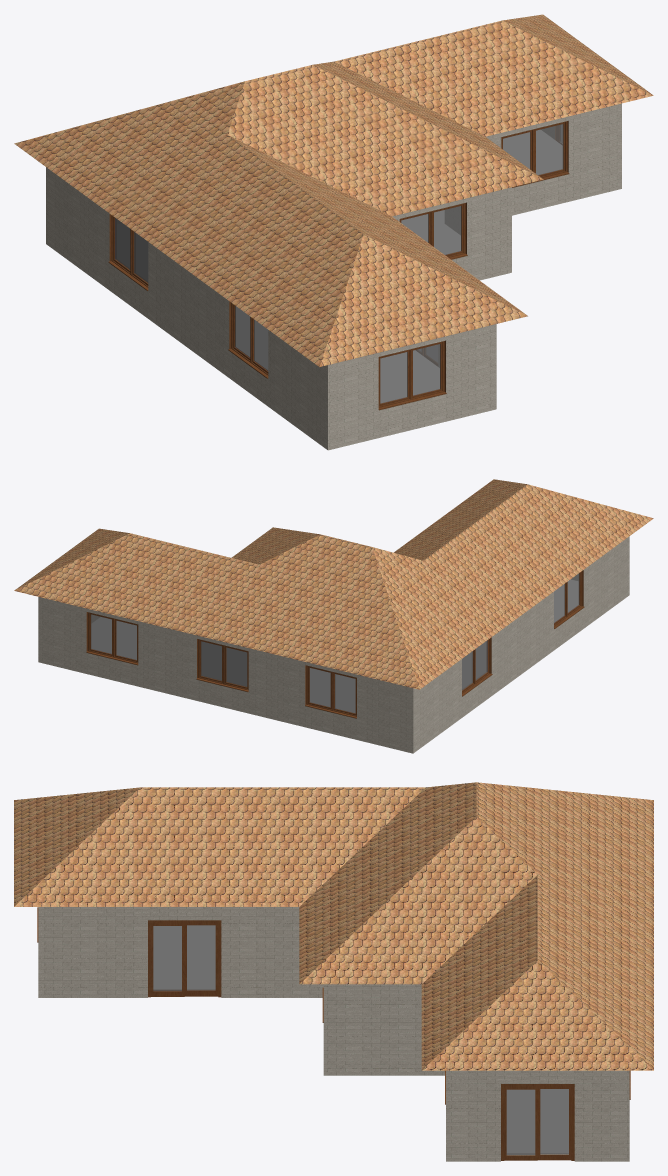
Rendered from telhado36.dae.
3 renders of one model, top to bottom at view 1: azimuth 30°, elevation 25°; view 2: azimuth 150°, elevation 25°; view 3: azimuth 270°, elevation 25°, orthographic. The views are drawn at different scales.
Parts seen in each view (by area): view 1: SketchUp (×13); view 2: SketchUp (×16); view 3: SketchUp (×9).
Part boxes in pixels (x1=…): SketchUp (×13): x1=14, y1=14, x2=653, y2=450; SketchUp (×16): x1=14, y1=479, x2=653, y2=753; SketchUp (×9): x1=14, y1=782, x2=653, y2=1161.
Bounding box in the file's own units: 618 × 618 × 207.
